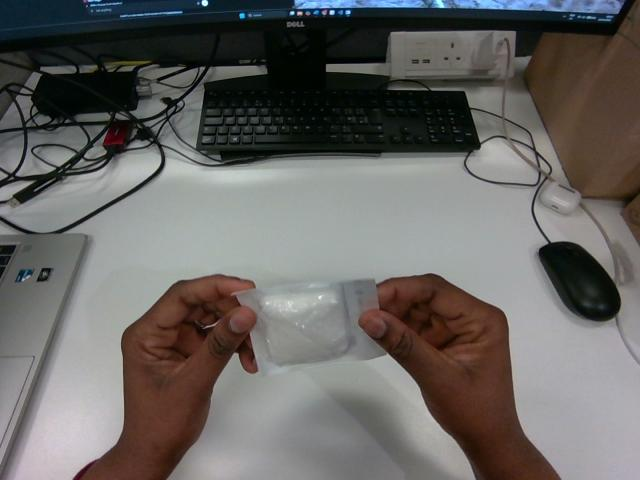gauze: (235, 279, 384, 374)
